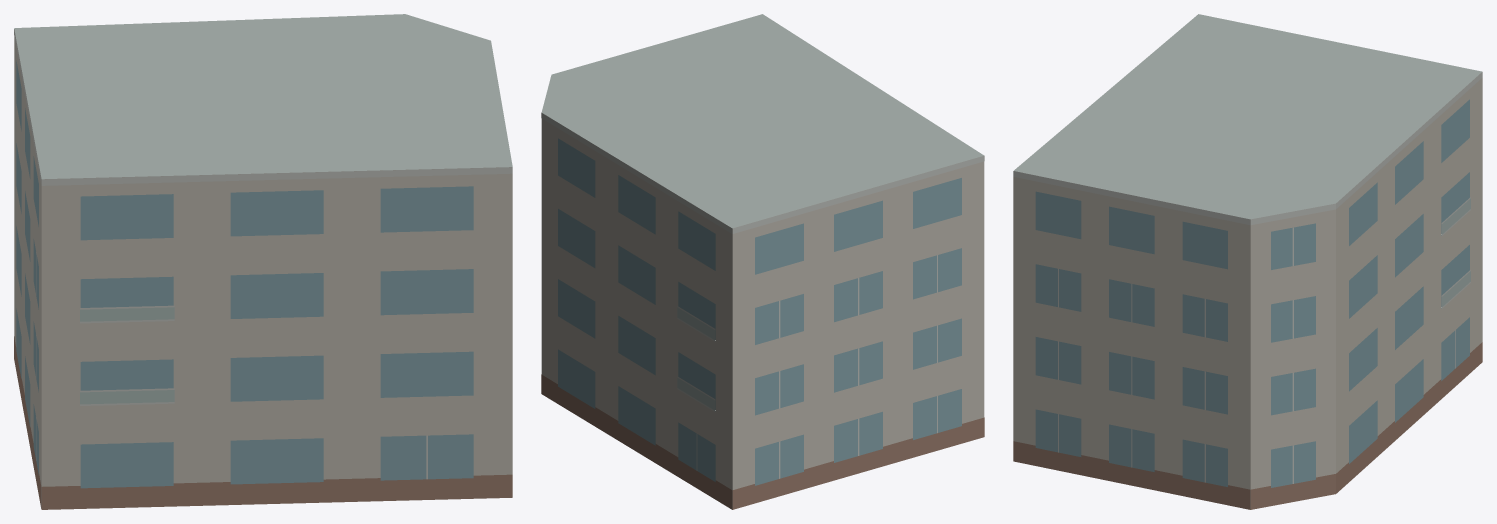
File: survey-upis-32885018.glb
The picture shows the model from 3 angles, left to right: view 1: azimuth 30°, elevation 25°; view 2: azimuth 150°, elevation 25°; view 3: azimuth 270°, elevation 25°; orthographic projection. The views are drawn at different scales.
Parts seen in each view (by area): view 1: survey-upis-32885018.tmp; view 2: survey-upis-32885018.tmp; view 3: survey-upis-32885018.tmp.
Part boxes in pixels (left/top/right/bottom): survey-upis-32885018.tmp: left=14, top=14, right=512, bottom=509; survey-upis-32885018.tmp: left=541, top=14, right=984, bottom=509; survey-upis-32885018.tmp: left=1013, top=14, right=1482, bottom=509.
Bounding box in the file's own units: 18.2 × 12 × 17.57.
